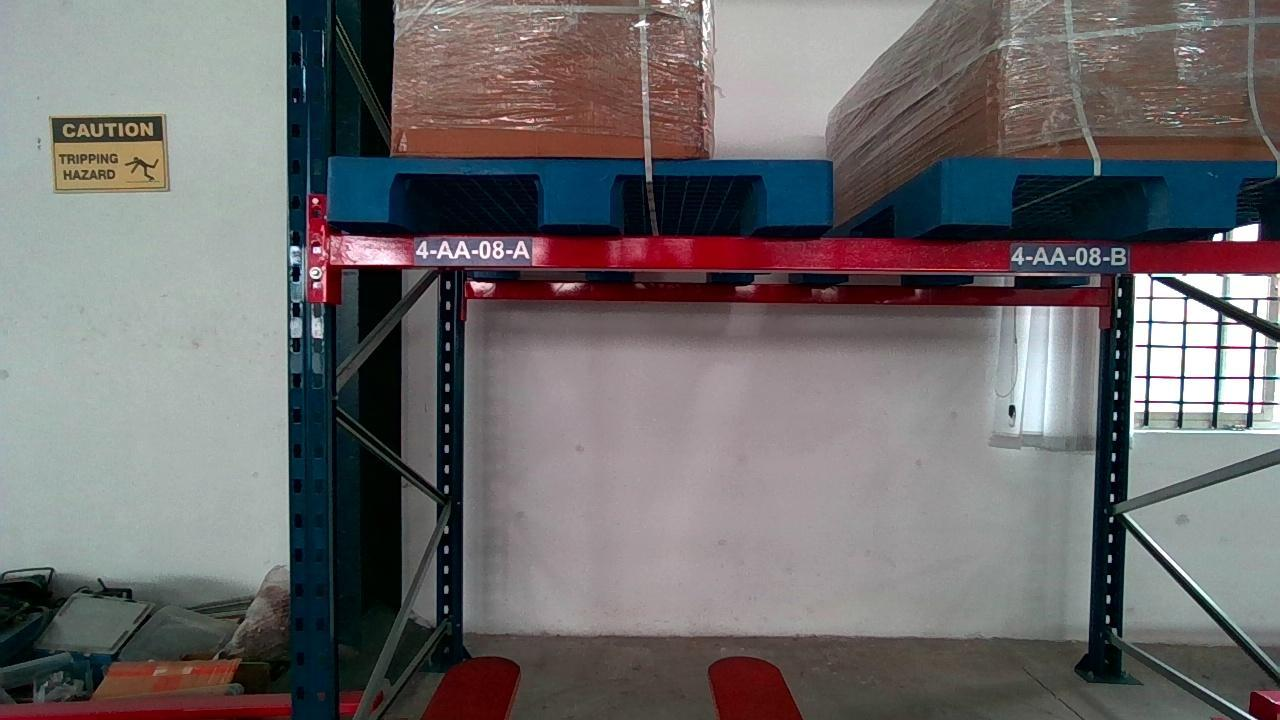h_rack: (326, 234, 1280, 274)
small_pallet: (327, 155, 833, 227), (944, 160, 1280, 233)
